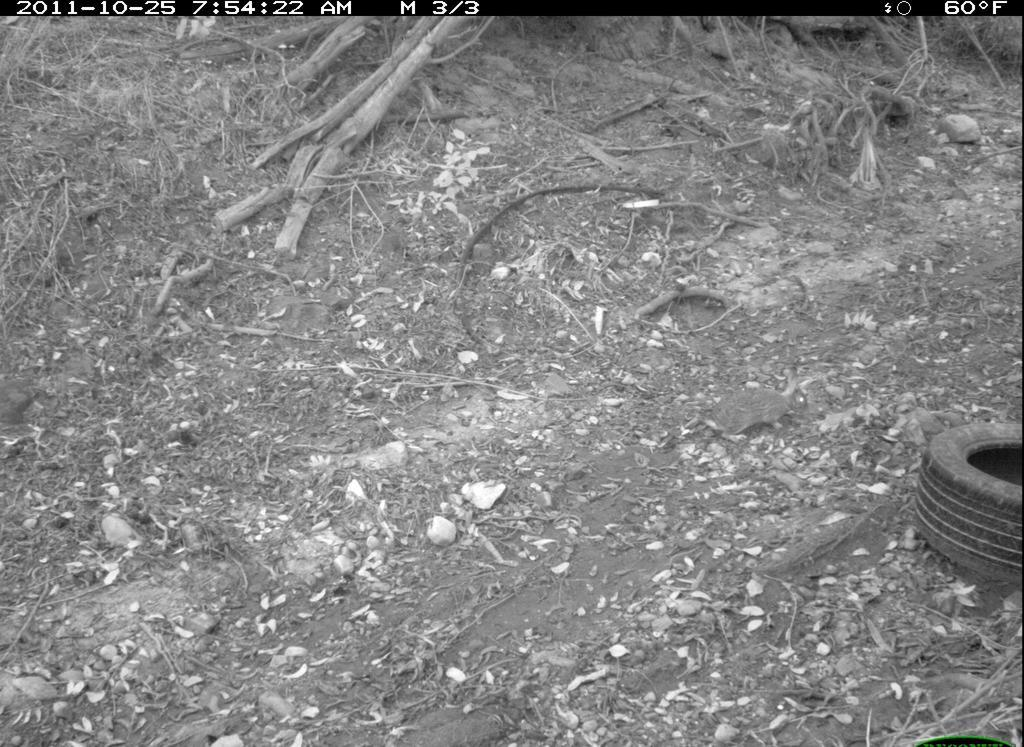rabbit: (701, 365, 812, 445)
